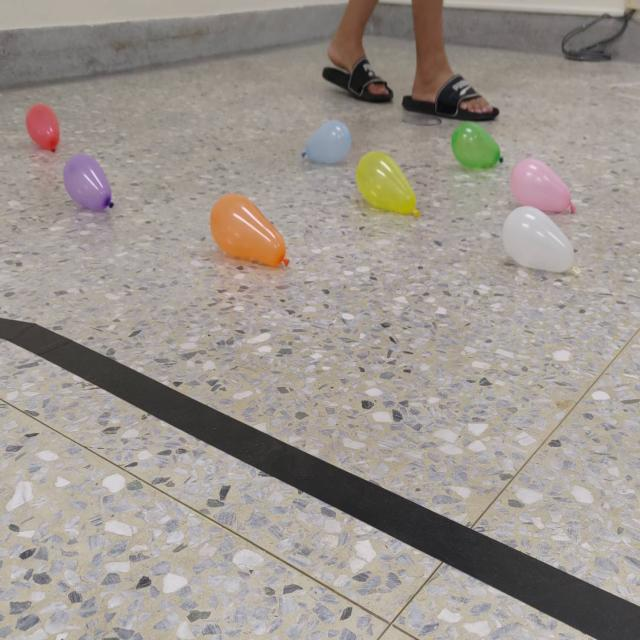other: (210, 194, 290, 268), (502, 206, 582, 277), (355, 148, 421, 217), (512, 157, 576, 215), (64, 151, 114, 208), (451, 121, 504, 168), (300, 120, 351, 164)
red: (26, 101, 60, 152)
